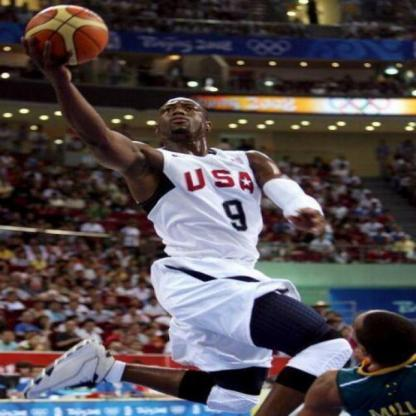basketball: (28, 4, 109, 66)
